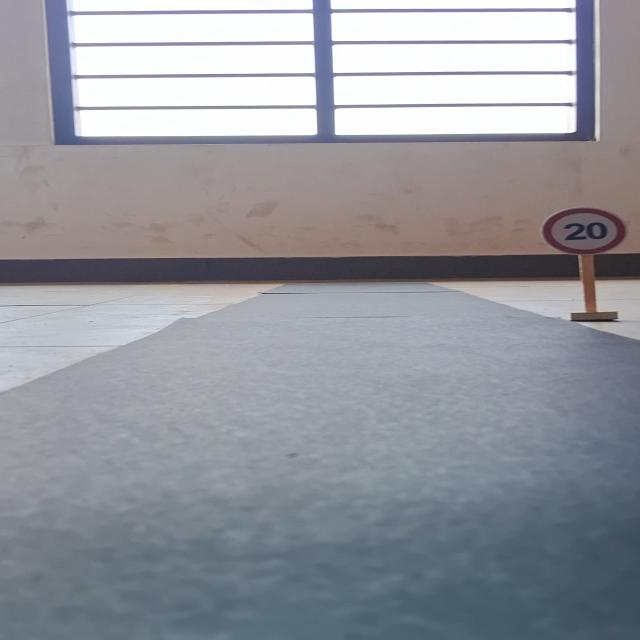Speed20: (526, 201, 638, 260)
